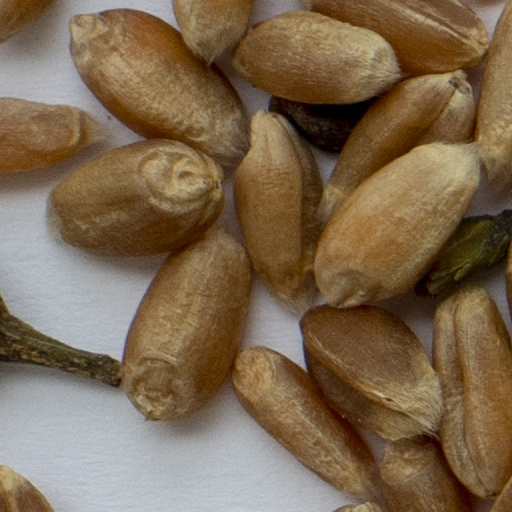Peel-poly: (0, 287, 121, 384), (418, 211, 511, 297)
Wheat-grain-poly: (325, 73, 473, 222), (233, 11, 399, 105), (298, 0, 485, 71), (476, 0, 511, 193), (175, 0, 251, 62)
